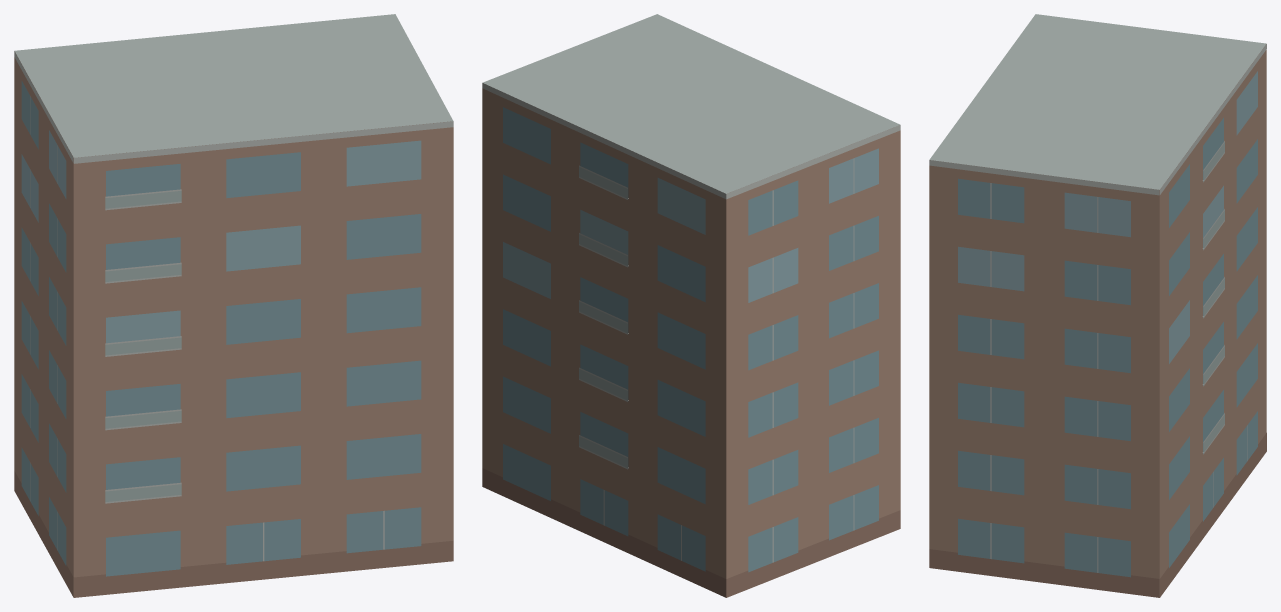
File: survey-upis-32873736.glb
3 renders of one model, left to right at view 1: azimuth 30°, elevation 25°; view 2: azimuth 150°, elevation 25°; view 3: azimuth 270°, elevation 25°, orthographic. The views are drawn at different scales.
Parts seen in each view (by area): view 1: survey-upis-32873736.tmp; view 2: survey-upis-32873736.tmp; view 3: survey-upis-32873736.tmp.
Boxes of the visible parts, x1,y1,x2,y2 form: survey-upis-32873736.tmp: (14, 14, 453, 597); survey-upis-32873736.tmp: (482, 14, 900, 597); survey-upis-32873736.tmp: (929, 14, 1266, 597).
Bounding box in the file's own units: 16.46 × 17.8 × 13.35.
